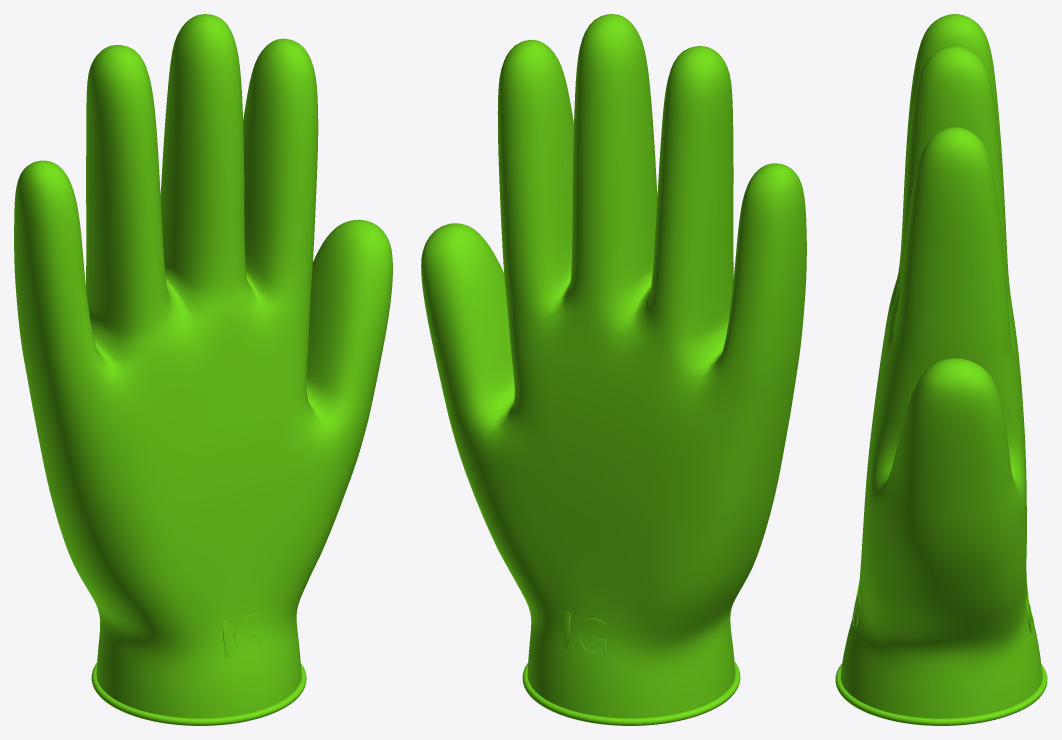
The model's file is diamond-8-mil--green.glb.
3 views of the same model, side by side, from view 1: azimuth 30°, elevation 25°; view 2: azimuth 150°, elevation 25°; view 3: azimuth 270°, elevation 25° (orthographic). The views are drawn at different scales.
Parts seen in each view (by area): view 1: pCube8, IG cuff front; view 2: pCube8, IG cuff back; view 3: pCube8.
Boxes of the visible parts, bbox=[...] form: pCube8: bbox=[14, 14, 392, 725]; IG cuff front: bbox=[222, 614, 265, 658]; pCube8: bbox=[421, 14, 806, 725]; IG cuff back: bbox=[563, 611, 605, 656]; pCube8: bbox=[835, 14, 1047, 725].
Bounding box in the file's own units: 0.1386 × 0.2392 × 0.0717.
